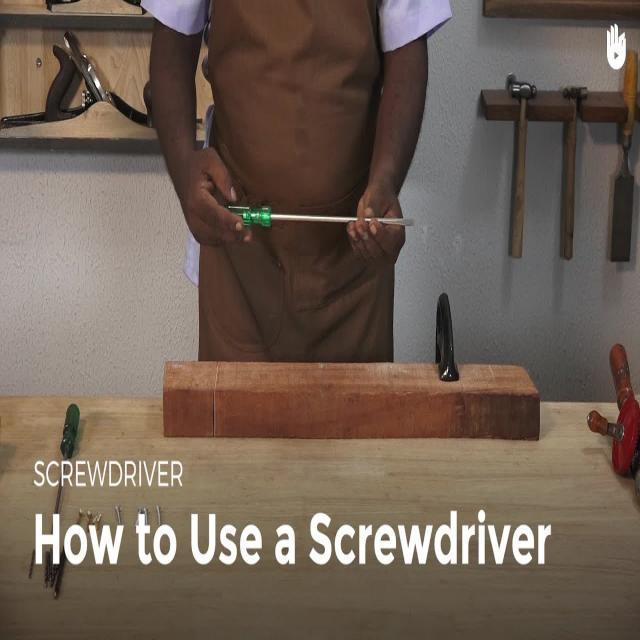hammer: (503, 74, 542, 264), (552, 77, 592, 260)
screwdriver: (226, 202, 422, 246), (40, 397, 83, 592)
